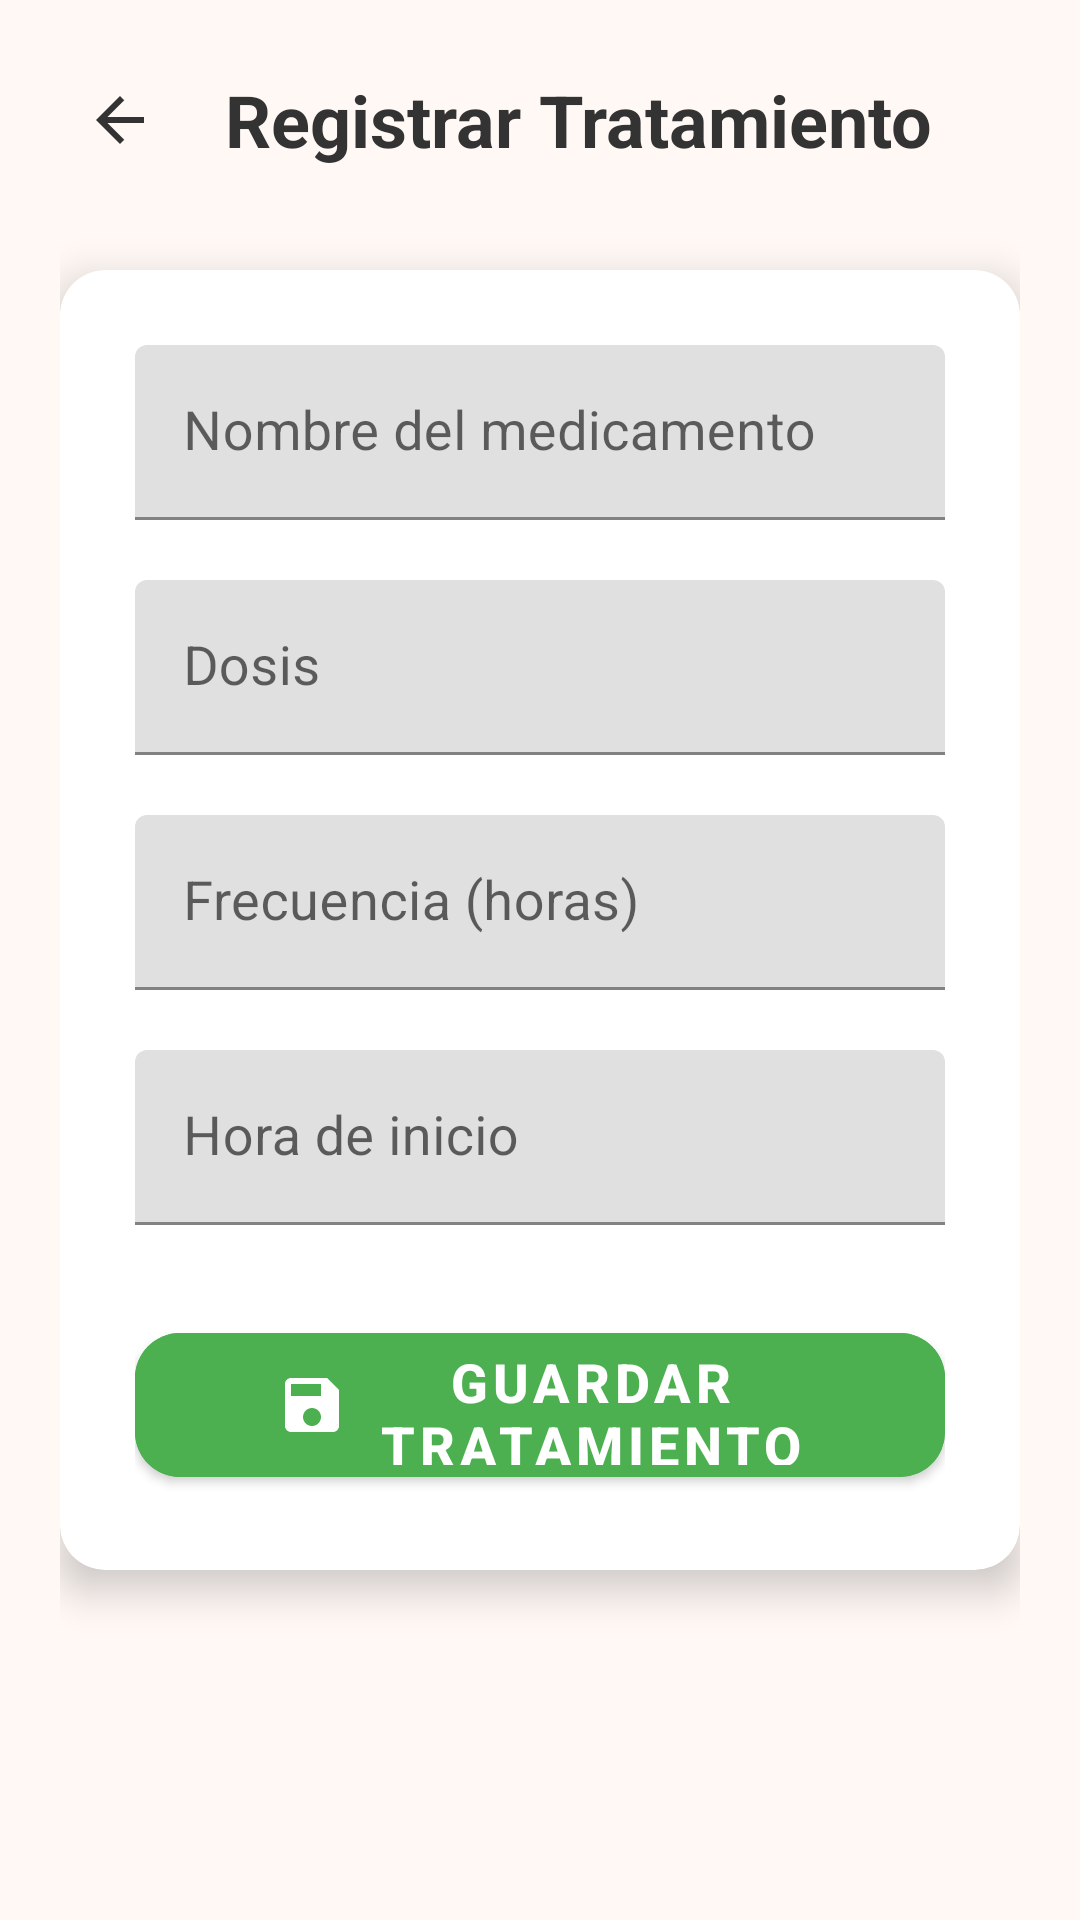

Icons on this 1080w x 1920h Android screen, each with its box as (x1, y1, x2, y2):
back: (96, 96, 144, 144)
